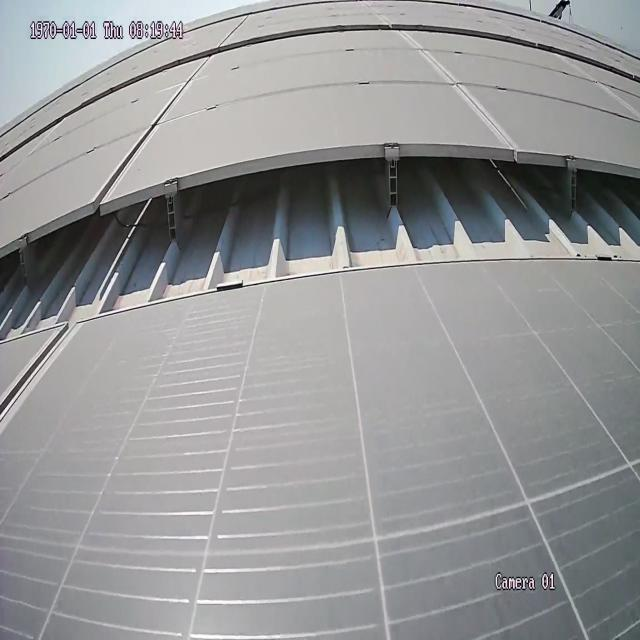interior panel: (101, 63, 211, 189), (404, 39, 511, 140), (2, 320, 78, 421)
outher panel: (3, 145, 635, 343)
